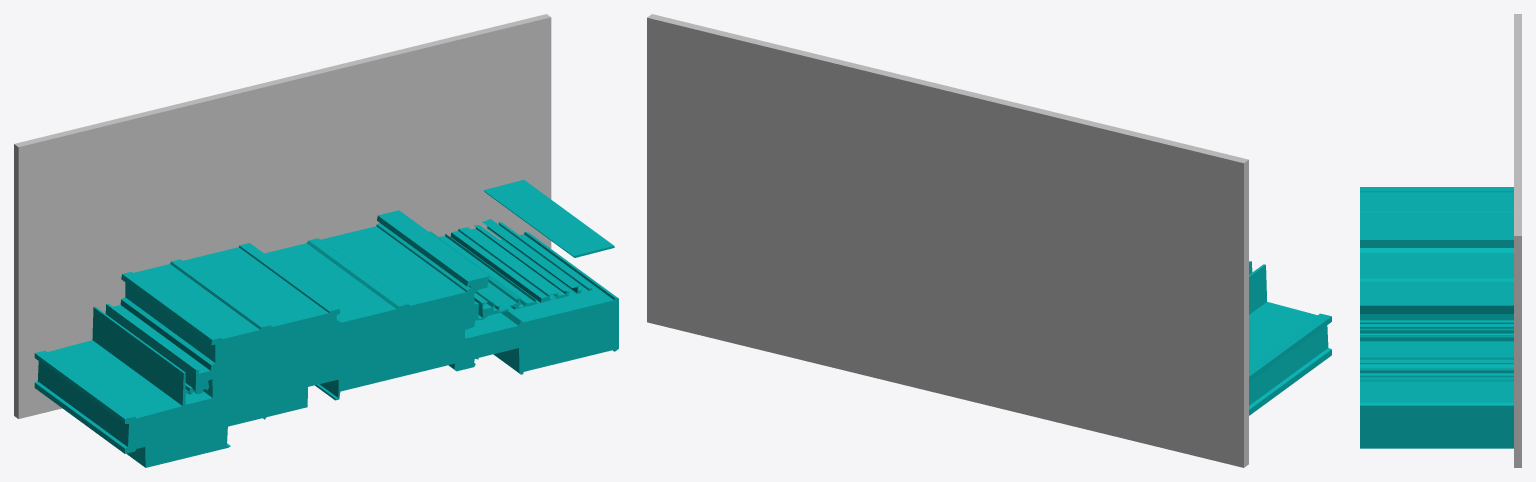
3 views of the same model, side by side, from view 1: azimuth 30°, elevation 25°; view 2: azimuth 150°, elevation 25°; view 3: azimuth 270°, elevation 25° (orthographic). The views are drawn at different scales.
Parts seen in each view (by area): view 1: world; view 2: world; view 3: world.
Boxes of the visible parts, x1,y1,x2,y2 form: world: [14, 14, 618, 467]; world: [647, 14, 1331, 467]; world: [1360, 14, 1521, 467].
Size of the model in its own units: 10.23 by 4.99 by 3.15.
